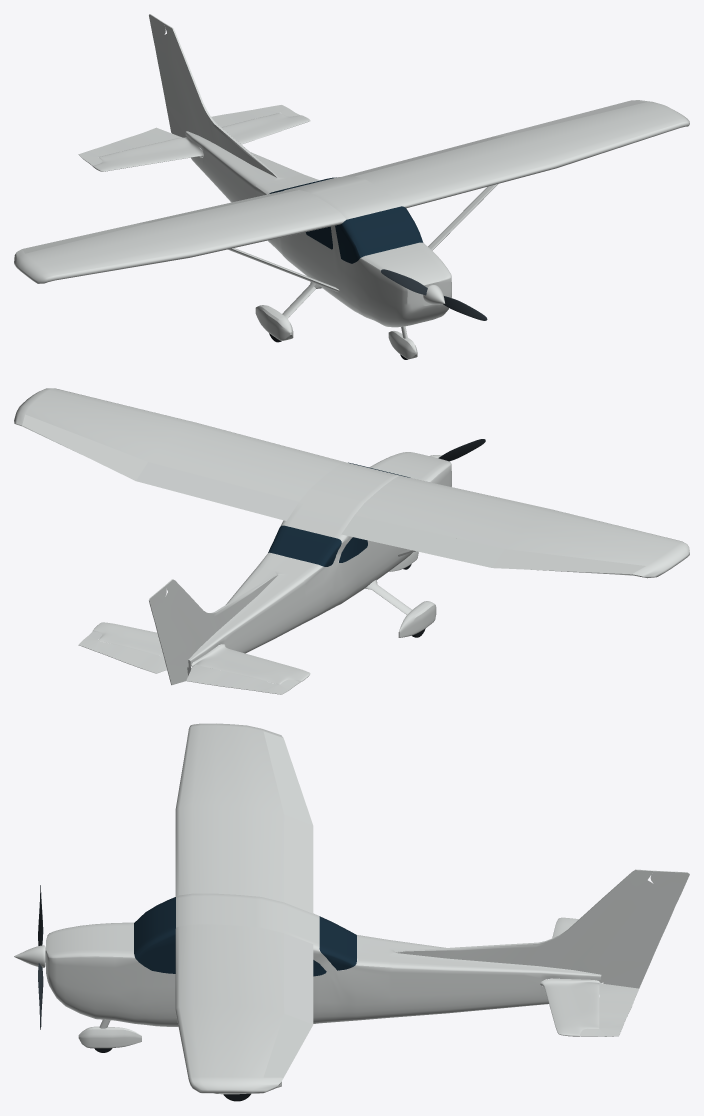
The model's file is cessna-172-sp.glb.
3 renders of one model, top to bottom at view 1: azimuth 30°, elevation 25°; view 2: azimuth 150°, elevation 25°; view 3: azimuth 270°, elevation 25°, orthographic. The views are drawn at different scales.
Parts seen in each view (by area): view 1: Wing_l, Fuelsolage, H_Stabiliser, Windshield, pitchrudder, yaw_rudder, Aielorons, Wing_stabiliser, Flaps, Propeller_blades, Gear_Capsule_back, Gear_Capsule_front; view 2: Wing_l, Fuelsolage, Flaps, Aielorons, H_Stabiliser, pitchrudder, SideWindows, yaw_rudder, Gear_Capsule_back; view 3: Fuelsolage, Wing_l, Flaps, yaw_rudder, Aielorons, H_Stabiliser, Windshield, pitchrudder, SideWindows, Gear_Capsule_front.
Part boxes in pixels (x1,y1,x2,y2): Wing_l: (14,100,689,283); Fuelsolage: (161,23,451,327); H_Stabiliser: (92,112,310,171); Windshield: (335,206,423,263); pitchrudder: (78,105,299,165); yaw_rudder: (149,14,187,137); Aielorons: (22,100,645,253); Wing_stabiliser: (228,184,497,291); Flaps: (137,136,503,223); Propeller_blades: (381,269,487,320); Gear_Capsule_back: (255,305,293,340); Gear_Capsule_front: (388,331,417,359); Wing_l: (14,388,689,578); Fuelsolage: (162,452,451,675); Flaps: (136,462,504,567); Aielorons: (22,414,645,575); H_Stabiliser: (93,622,310,684); pitchrudder: (78,631,300,694); SideWindows: (268,525,367,566); yaw_rudder: (149,586,188,685); Gear_Capsule_back: (398,601,436,637); Fuelsolage: (46,869,661,1026); Wing_l: (175,723,284,1093); Flaps: (284,815,313,1024); yaw_rudder: (597,870,689,988); Aielorons: (263,731,313,1077); H_Stabiliser: (540,917,599,1036); Windshield: (134,897,175,973); pitchrudder: (581,982,638,1036); SideWindows: (313,916,356,976); Gear_Capsule_front: (78,1026,141,1048).
Bounding box in the file's own units: 3.5 × 0.8562 × 2.74.
